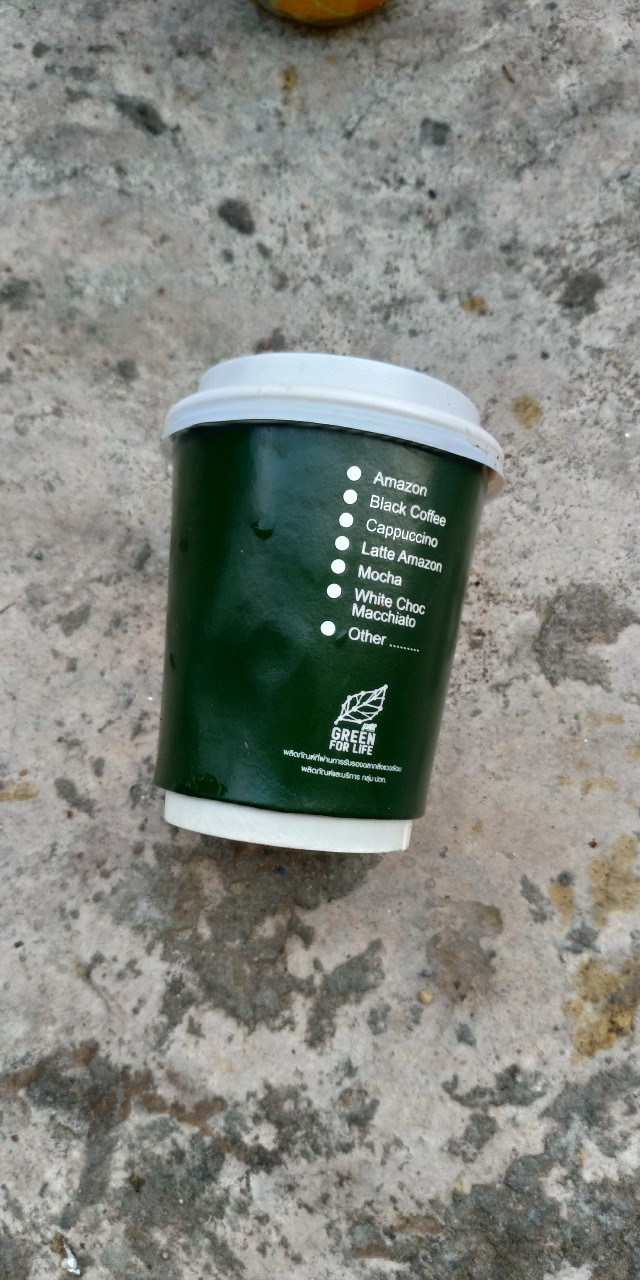PaperCup: (152, 355, 495, 857)
